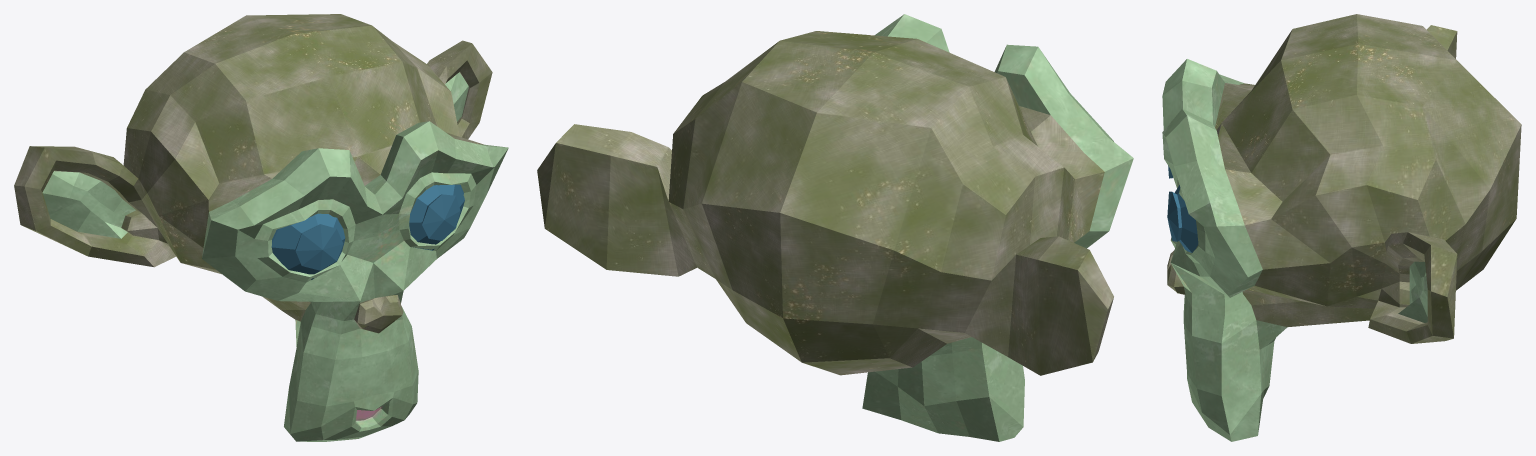
3 renders of one model, left to right at view 1: azimuth 30°, elevation 25°; view 2: azimuth 150°, elevation 25°; view 3: azimuth 270°, elevation 25°, orthographic. The views are drawn at different scales.
Parts seen in each view (by area): view 1: Suzanne; view 2: Suzanne; view 3: Suzanne.
Boxes of the visible parts, <box> form: Suzanne: <box>14,14,508,441</box>; Suzanne: <box>537,14,1133,441</box>; Suzanne: <box>1162,14,1521,441</box>.
Size of the model in its own units: 21.91 by 15.78 by 13.65.
Materials: 5 (5 with a texture image).
